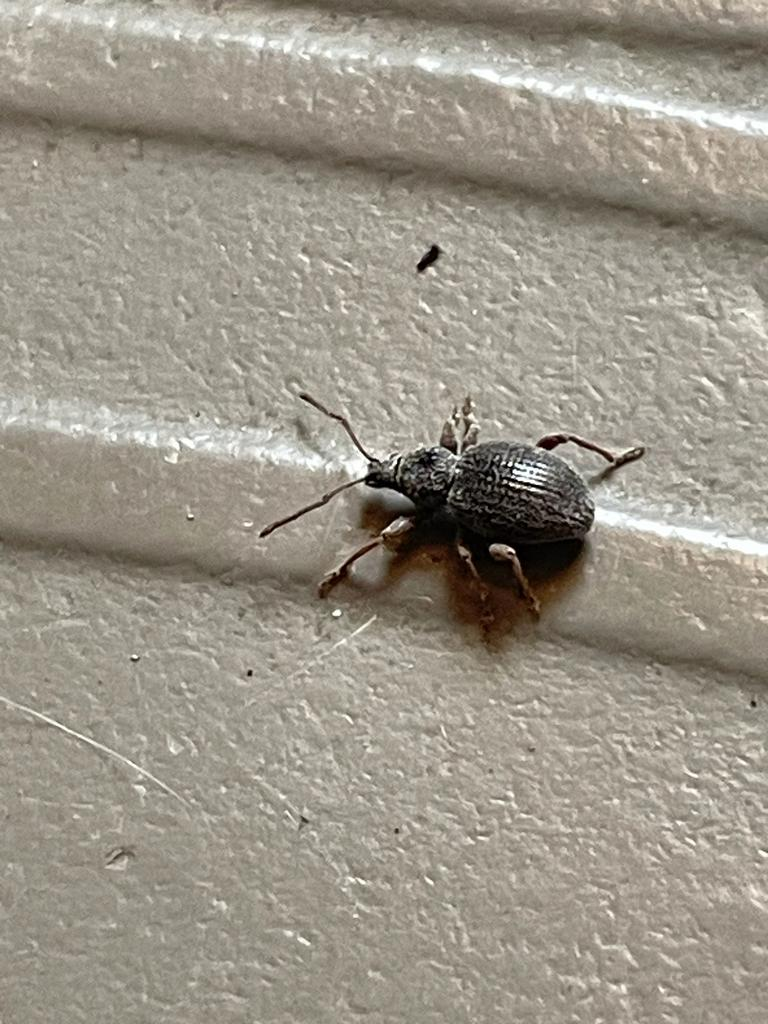weevils: (226, 354, 681, 676)
